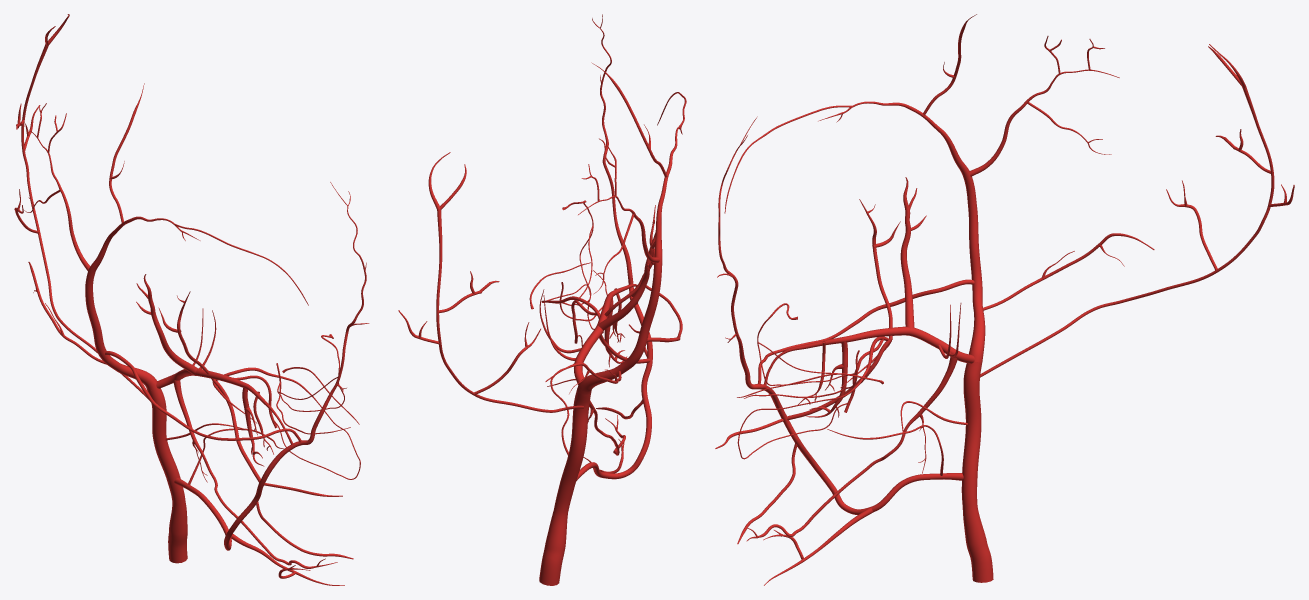
The model's file is circulatorio-external-carotid-artery-r.glb.
3 views of the same model, side by side, from view 1: azimuth 30°, elevation 25°; view 2: azimuth 150°, elevation 25°; view 3: azimuth 270°, elevation 25° (orthographic). The views are drawn at different scales.
Visible parts, largest first — view 1: Superficial temporal artery.r, External carotid artery.r, Occipital artery.r, Maxillary artery.r, Angular artery.r, Facial artery.r, Inferior alveolar artery.r, Transverse facial artery.r, Posterior deep temporal artery.r, Posterior lateral nasal branches of sphenopalatine artery..r, Submental artery.r; view 2: Superficial temporal artery.r, External carotid artery.r, Occipital artery.r, Facial artery.r, Maxillary artery.r, Angular artery.r, Posterior deep temporal artery.r, Posterior lateral nasal branches of sphenopalatine artery..r; view 3: Superficial temporal artery.r, External carotid artery.r, Occipital artery.r, Maxillary artery.r, Facial artery.r, Inferior alveolar artery.r, Angular artery.r, Posterior deep temporal artery.r, Transverse facial artery.r, Posterior lateral nasal branches of sphenopalatine artery..r.
Part boxes in pixels (box(x1,y1,x2,y2)): Superficial temporal artery.r: box(23, 83, 200, 390); External carotid artery.r: box(147, 388, 187, 563); Occipital artery.r: box(14, 14, 148, 399); Maxillary artery.r: box(156, 368, 273, 466); Angular artery.r: box(272, 182, 369, 463); Facial artery.r: box(174, 461, 276, 550); Inferior alveolar artery.r: box(173, 380, 316, 568); Transverse facial artery.r: box(105, 351, 301, 442); Posterior deep temporal artery.r: box(136, 274, 197, 375); Posterior lateral nasal branches of sphenopalatine artery..r: box(276, 334, 350, 434); Submental artery.r: box(231, 534, 344, 585); Superficial temporal artery.r: box(545, 62, 682, 394); External carotid artery.r: box(539, 389, 591, 585); Occipital artery.r: box(398, 152, 584, 412); Facial artery.r: box(576, 332, 652, 480); Maxillary artery.r: box(574, 288, 627, 385); Angular artery.r: box(592, 14, 643, 325); Posterior deep temporal artery.r: box(597, 232, 655, 330); Posterior lateral nasal branches of sphenopalatine artery..r: box(559, 200, 607, 321); Superficial temporal artery.r: box(818, 14, 1154, 362); External carotid artery.r: box(961, 361, 993, 582); Occipital artery.r: box(980, 44, 1294, 377); Maxillary artery.r: box(798, 326, 974, 417); Facial artery.r: box(772, 398, 963, 514); Inferior alveolar artery.r: box(758, 357, 957, 537); Angular artery.r: box(717, 116, 777, 400); Posterior deep temporal artery.r: box(900, 177, 926, 328); Transverse facial artery.r: box(757, 279, 974, 384); Posterior lateral nasal branches of sphenopalatine artery..r: box(744, 303, 859, 398).
Size of the model in its own units: 0.0746 by 0.1993 by 0.1916.
